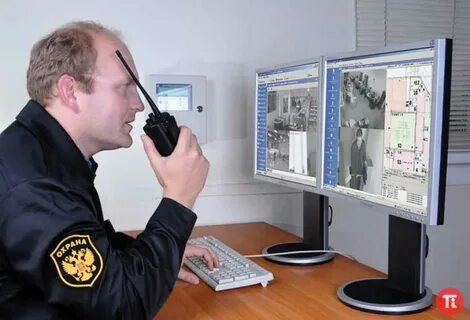awake: (1, 20, 211, 319)
